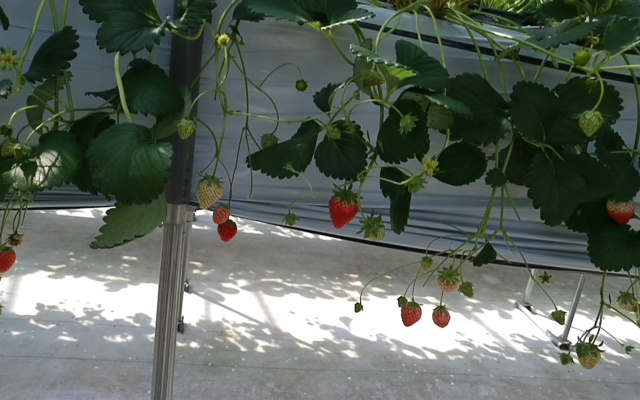GreenStrawberry: (193, 174, 223, 209), (606, 195, 638, 226), (359, 216, 388, 242), (578, 108, 603, 137), (576, 343, 601, 370), (438, 269, 460, 295), (359, 68, 386, 89), (1, 136, 24, 159), (617, 291, 637, 312), (177, 120, 196, 139), (458, 282, 474, 299), (551, 310, 569, 325), (419, 255, 433, 273)
MatureStrawberry: (328, 188, 360, 230), (1, 245, 20, 274), (401, 301, 422, 327), (217, 220, 238, 244), (433, 306, 449, 329), (212, 204, 230, 224)
